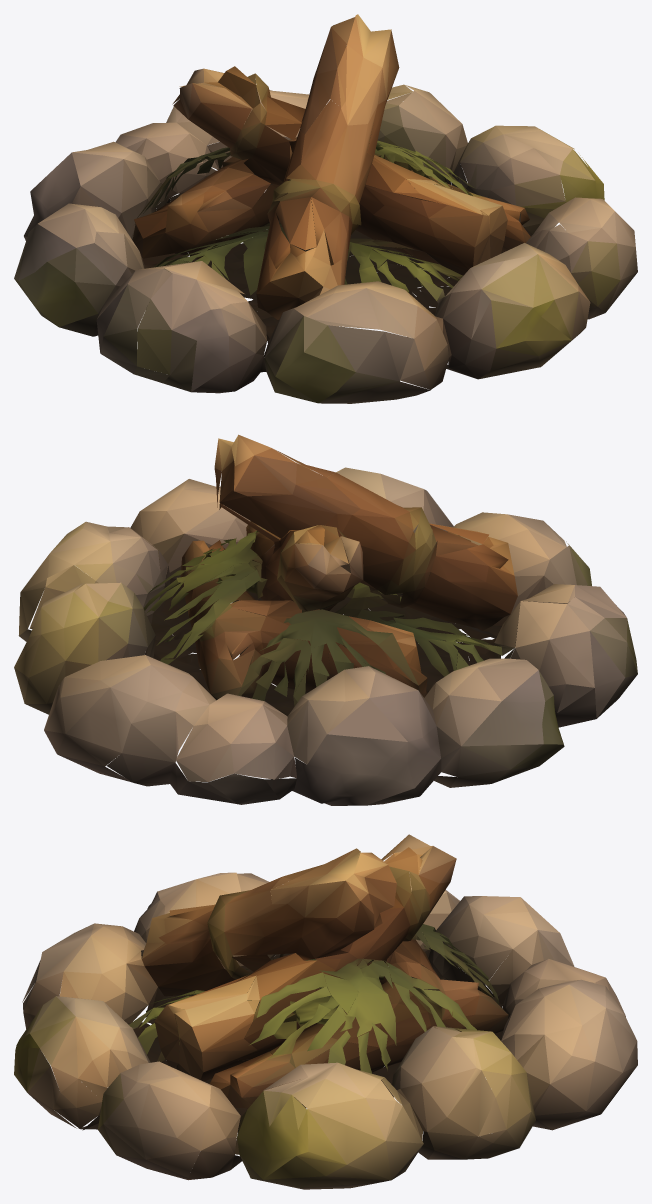
File: building-campfire.glb
3 views of the same model, one above another, from view 1: azimuth 30°, elevation 25°; view 2: azimuth 150°, elevation 25°; view 3: azimuth 270°, elevation 25° (orthographic). The views are drawn at different scales.
Visible parts, largest first — view 1: 0_campfire; view 2: 0_campfire; view 3: 0_campfire.
Part boxes in pixels (bbox=[...]): 0_campfire: bbox=[14, 14, 637, 403]; 0_campfire: bbox=[14, 434, 637, 805]; 0_campfire: bbox=[14, 834, 637, 1189].
Bounding box in the file's own units: 1.66 × 0.75 × 1.67.
